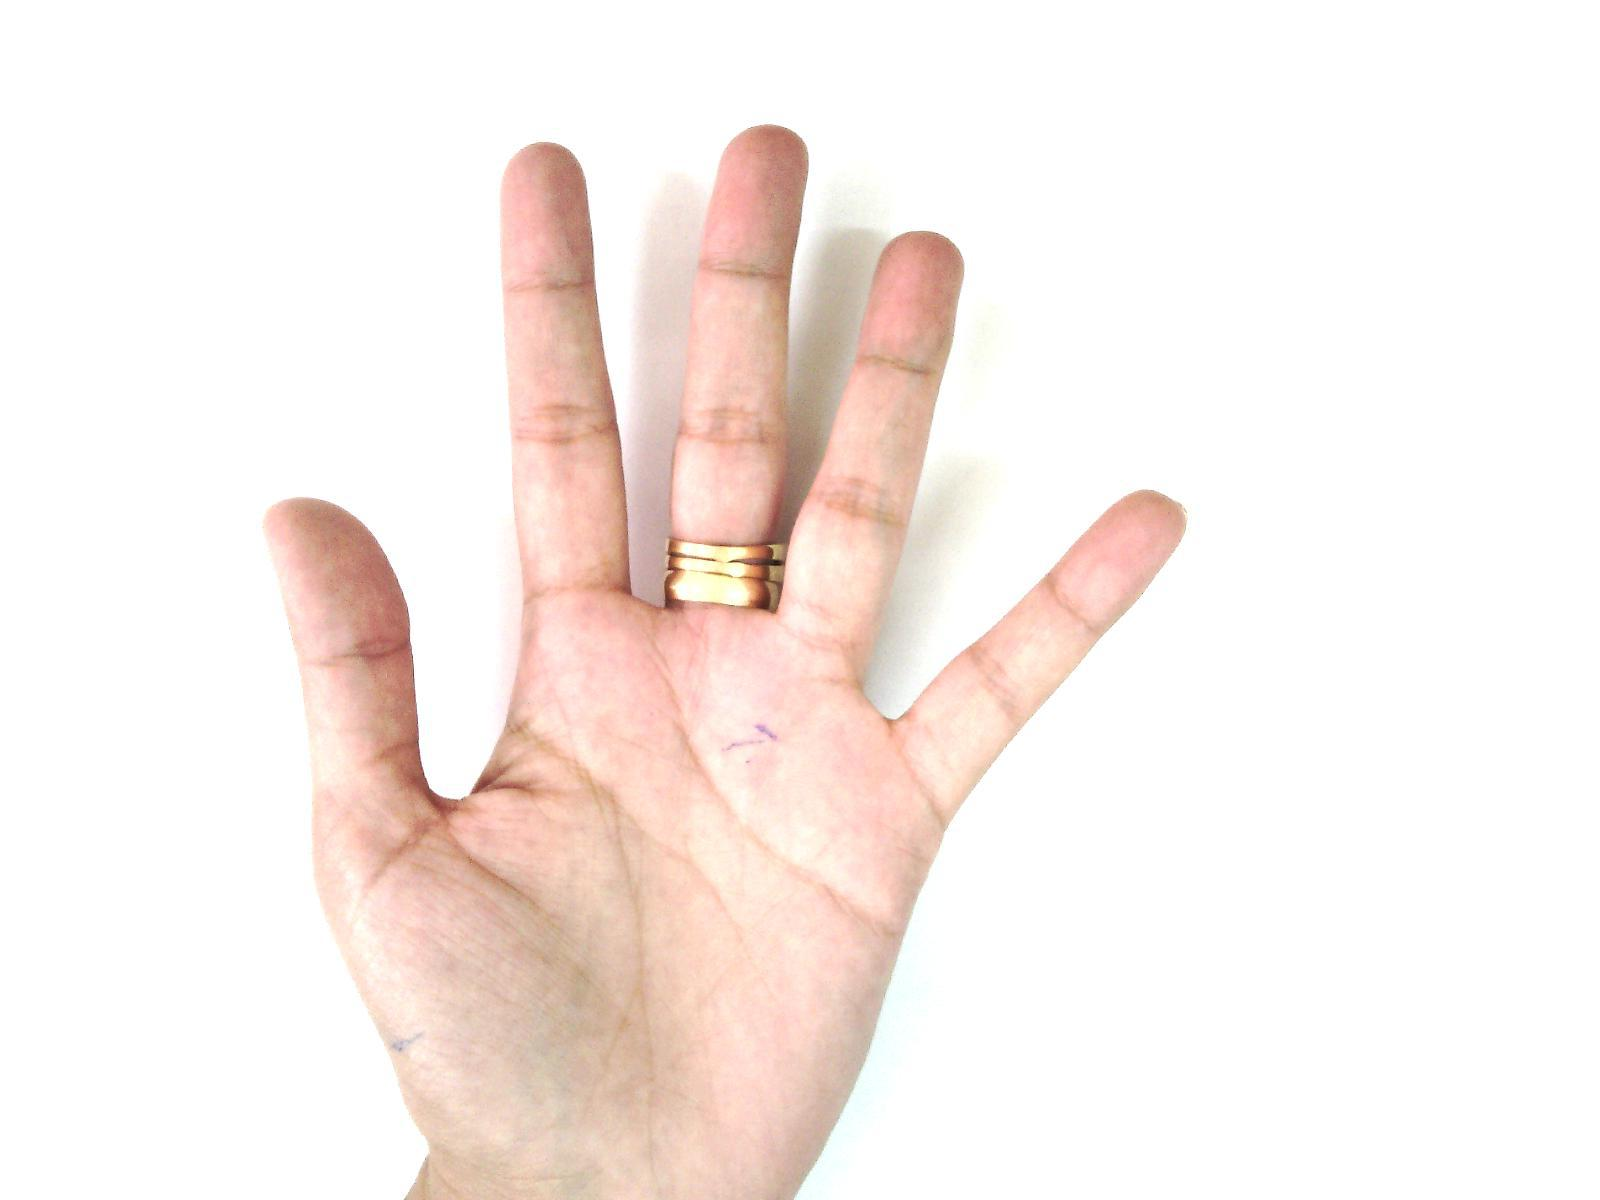hand: (257, 113, 1187, 1176)
